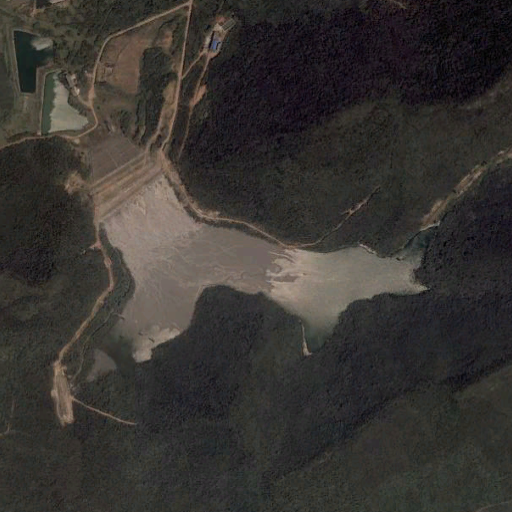tp: (81, 130, 430, 384)
